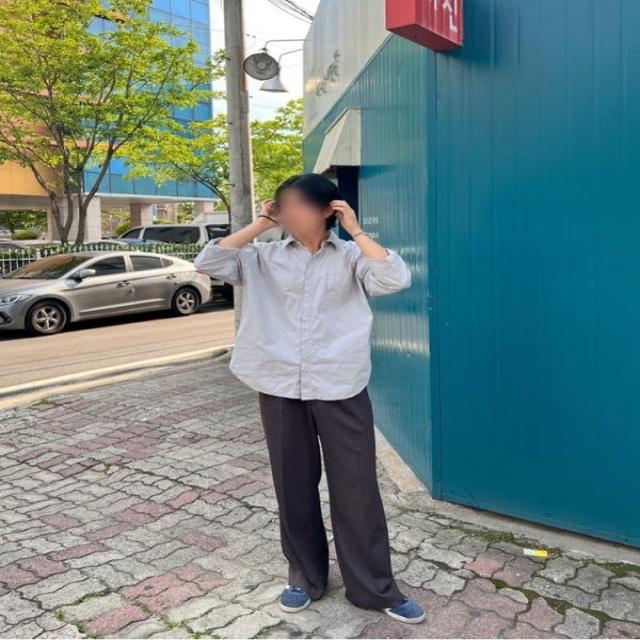shirt: (200, 228, 415, 398)
slacks: (261, 380, 405, 606)
